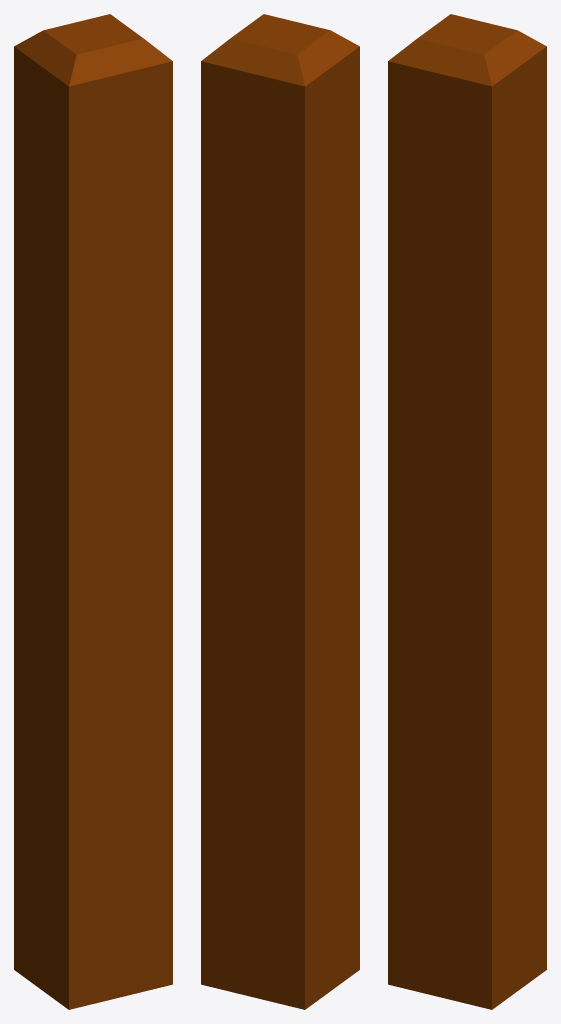
Rendered from fence_pillar.fbx.
The picture shows the model from 3 angles, left to right: view 1: azimuth 30°, elevation 25°; view 2: azimuth 150°, elevation 25°; view 3: azimuth 330°, elevation 25°; orthographic projection.
Parts seen in each view (by area): view 1: fence_pillar; view 2: fence_pillar; view 3: fence_pillar.
Boxes of the visible parts, x1=… form: fence_pillar: x1=14, y1=14, x2=172, y2=1009; fence_pillar: x1=201, y1=14, x2=359, y2=1009; fence_pillar: x1=388, y1=14, x2=546, y2=1009.
Bounding box in the file's own units: 0.3522 × 3.05 × 0.3217.
